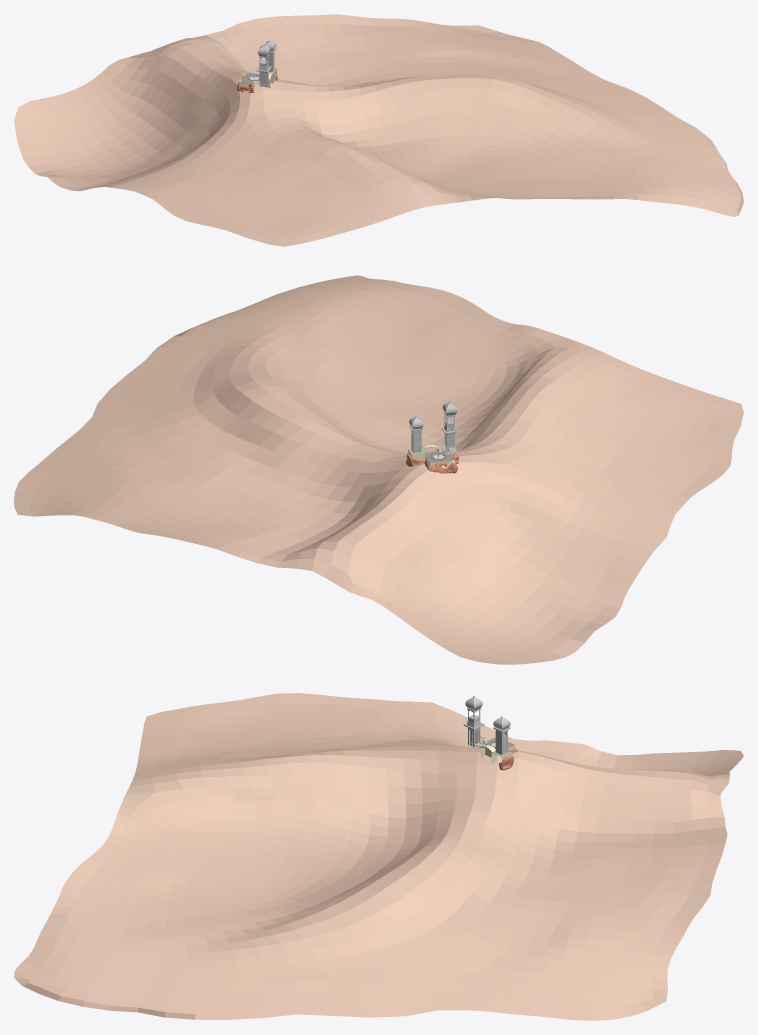
Rendered from castle V 5.FBX.
3 views of the same model, one above another, from view 1: azimuth 30°, elevation 25°; view 2: azimuth 150°, elevation 25°; view 3: azimuth 270°, elevation 25° (orthographic). The views are drawn at different scales.
Parts seen in each view (by area): view 1: ground, tower 1; view 2: ground; view 3: ground, tower 1.
Part boxes in pixels (x1,y1,x2,y2): ground: (14, 14, 743, 246); tower 1: (257, 44, 271, 87); ground: (14, 275, 743, 664); ground: (14, 693, 743, 1020); tower 1: (463, 695, 484, 747).
Size of the model in its own units: 196 by 48 by 200.
